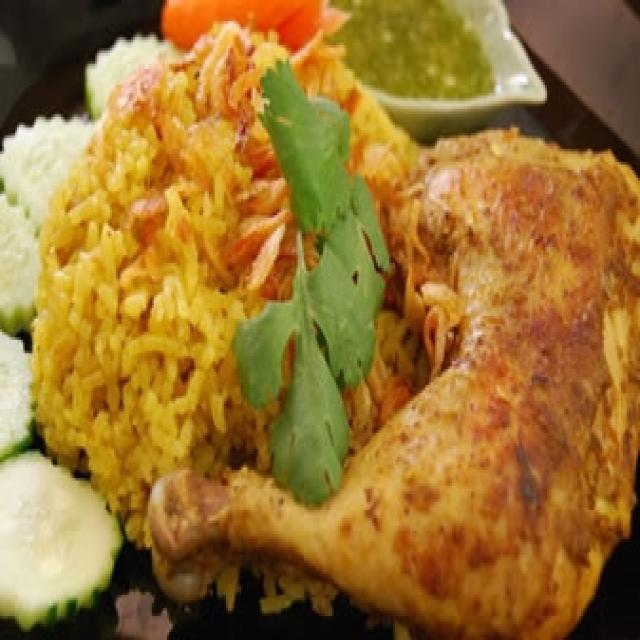米饭主食: (4, 11, 630, 624)
